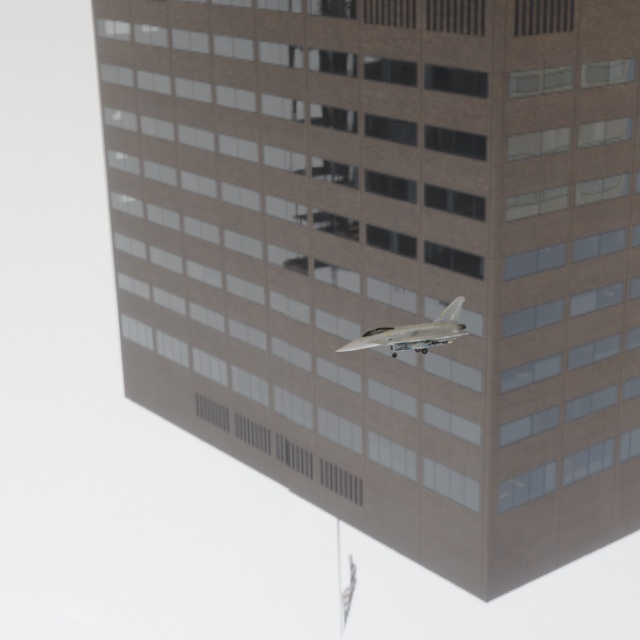eurofighter_typhoon_3d: (318, 294, 489, 373)
